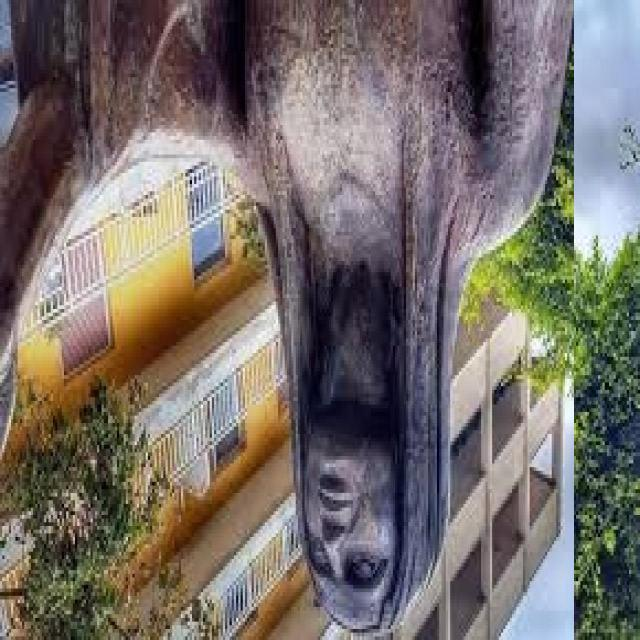Aretousa: (1, 1, 575, 640)
